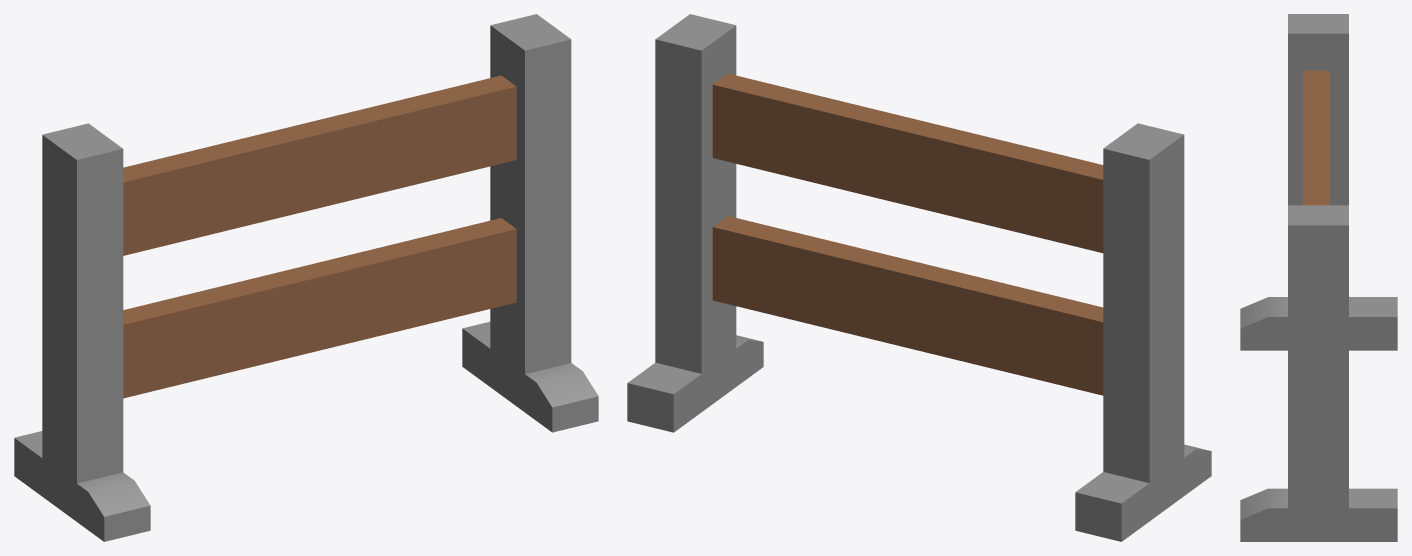
Rendered from fence_02.fbx.
3 views of the same model, side by side, from view 1: azimuth 30°, elevation 25°; view 2: azimuth 150°, elevation 25°; view 3: azimuth 270°, elevation 25° (orthographic). The views are drawn at different scales.
Visible parts, largest first — view 1: fence_02; view 2: fence_02; view 3: fence_02.
Part boxes in pixels (box(x1,y1,x2,y2)): fence_02: box(14, 14, 598, 541); fence_02: box(627, 14, 1211, 541); fence_02: box(1240, 14, 1397, 541).
Bounding box in the file's own units: 158 × 111 × 49.92.
